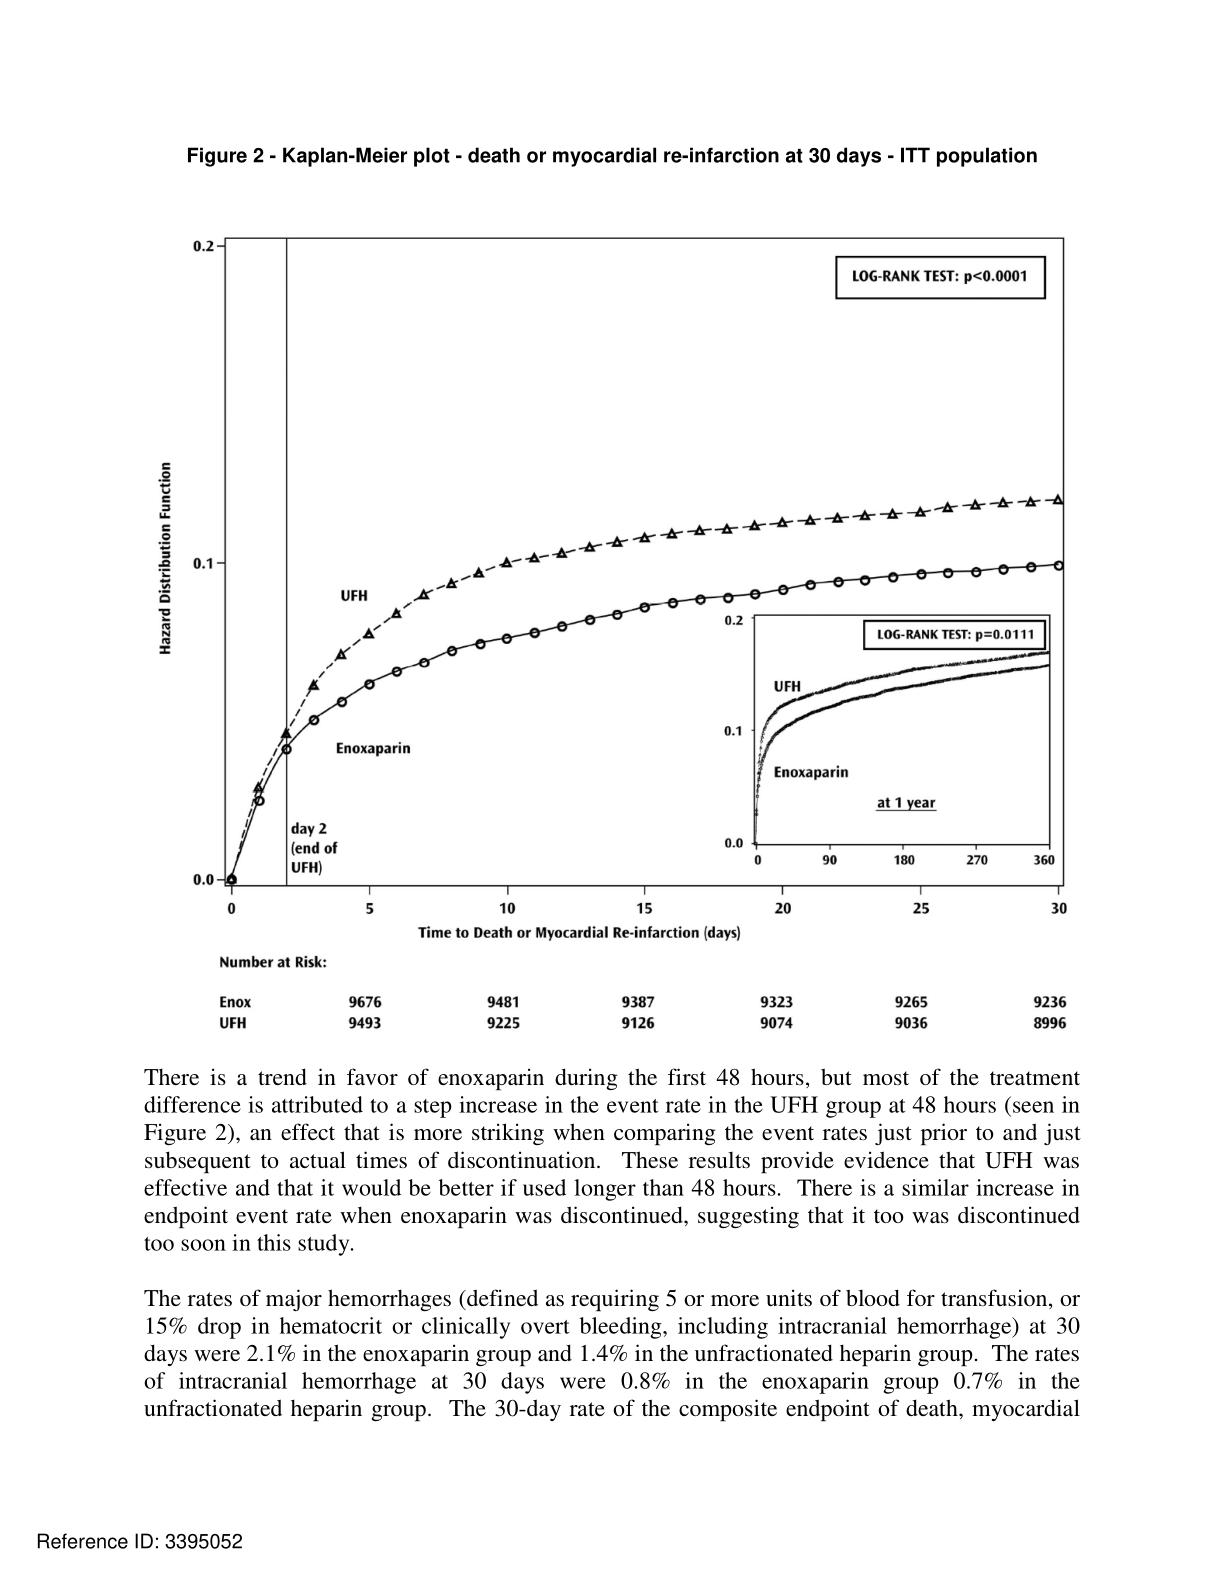nolines: (214, 953, 1071, 1032)
